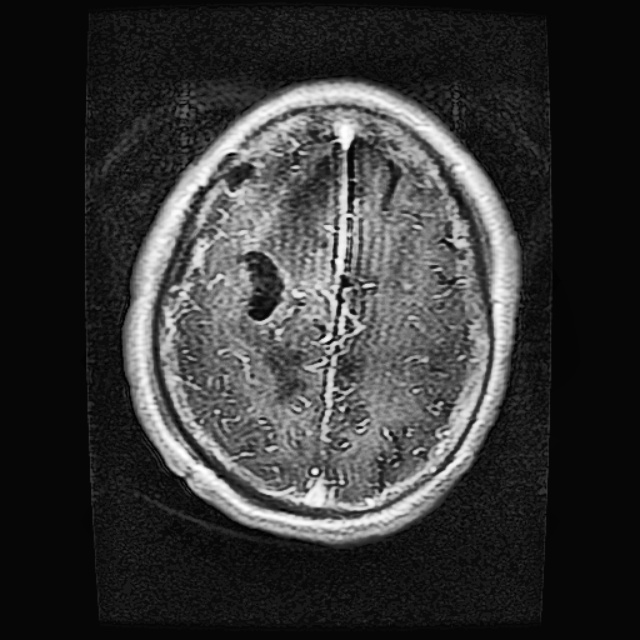Glioma: (234, 248, 283, 322)
